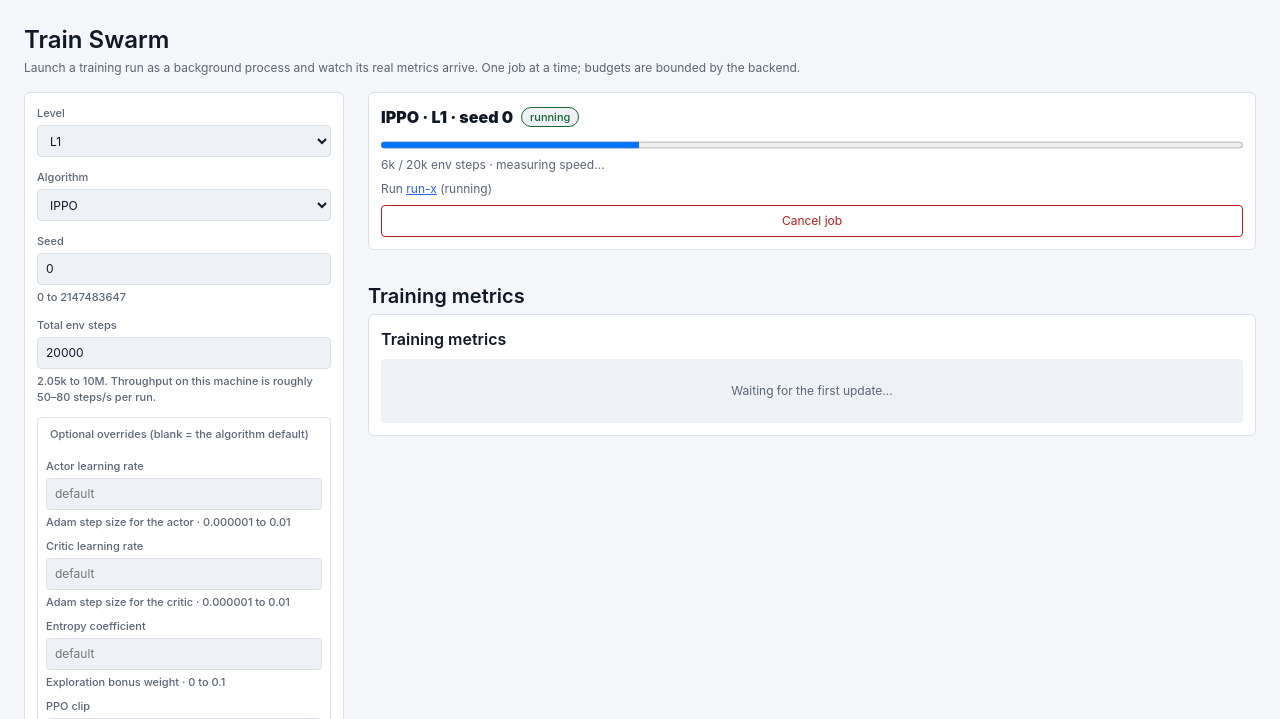
Test: Train Swarm page › adopts a job already running (page reload), shows progress and offers Cancel
The image size is (1280, 719).
Expected: the element named "Job status" shows "6k / 20k env steps", [368,92,1256,250]
Expected: the element named "Job status" shows "measuring speed…", [486,157,605,172]
Click the button "Cancel job". click: click(812, 221)
box: [381,205,1243,237]
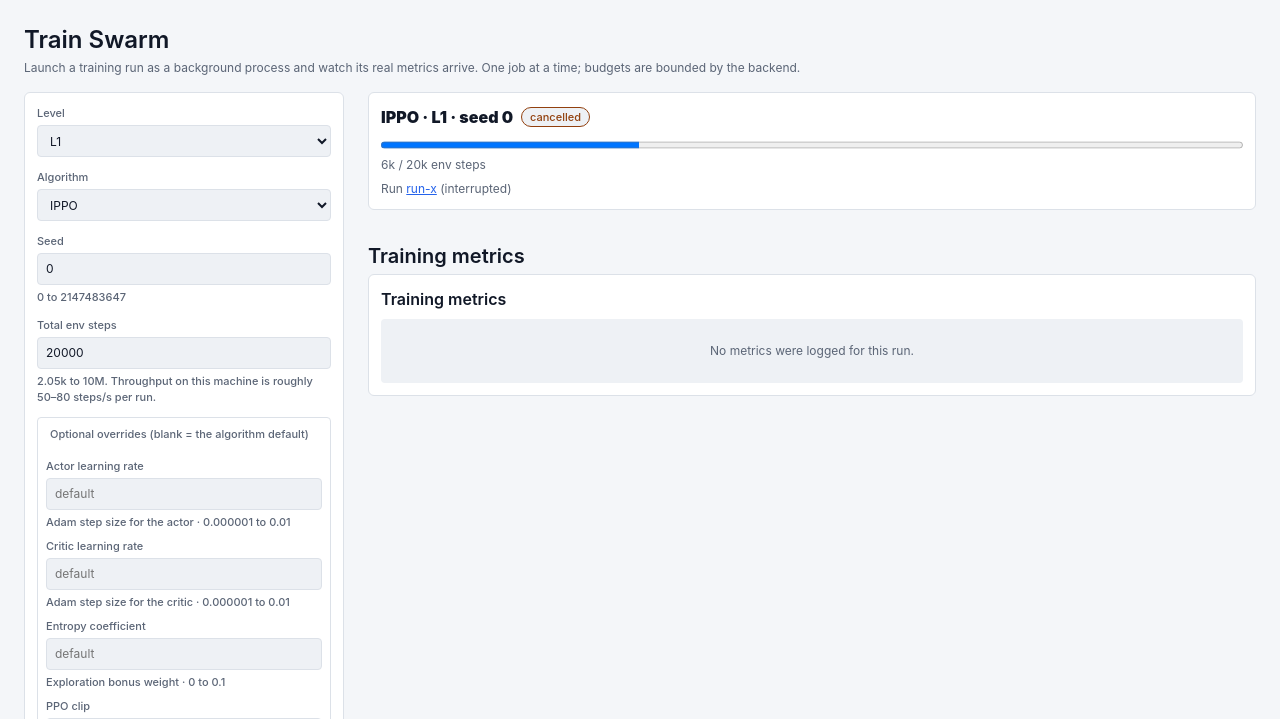
Expected: the element named "Job status" shows "cancelled", [530,110,581,124]
